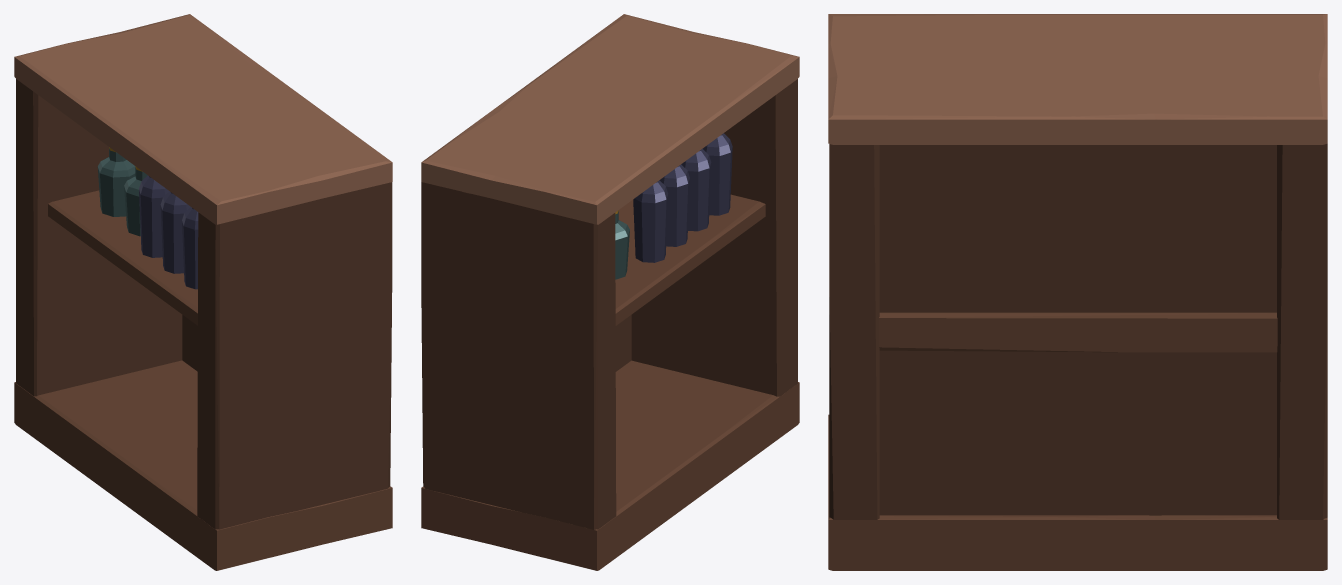
File: BG_Cabinet.fbx
The picture shows the model from 3 angles, left to right: view 1: azimuth 30°, elevation 25°; view 2: azimuth 150°, elevation 25°; view 3: azimuth 270°, elevation 25°; orthographic projection. The views are drawn at different scales.
Visible parts, largest first — view 1: BG_Cabinet; view 2: BG_Cabinet; view 3: BG_Cabinet.
Boxes of the visible parts, x1,y1,x2,y2 form: BG_Cabinet: [14, 14, 392, 570]; BG_Cabinet: [421, 14, 799, 570]; BG_Cabinet: [828, 14, 1327, 570].
Bounding box in the file's own units: 39.47 × 78.96 × 78.9.
1 material, 1 textured.
